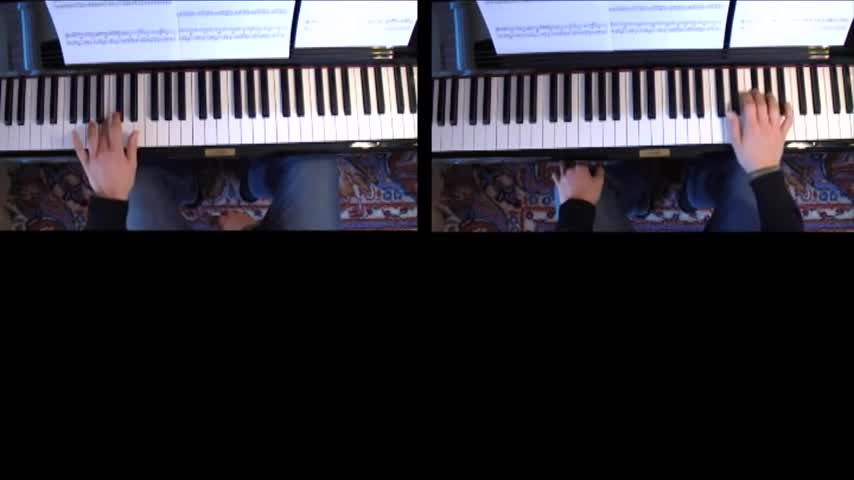left: (71, 110, 143, 197), (543, 157, 606, 207)
right: (723, 85, 793, 173)
